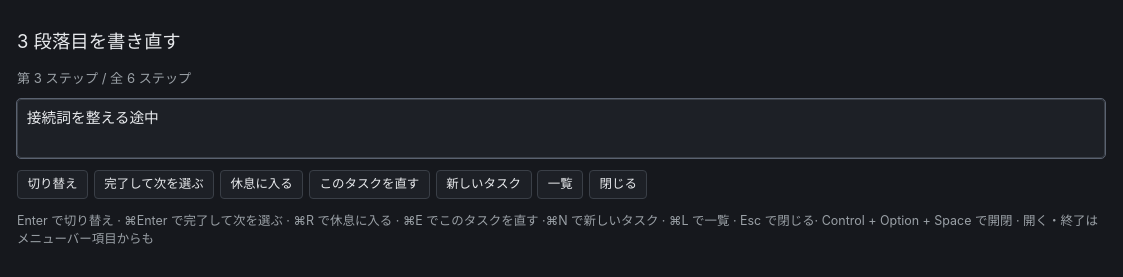
Scenario: 「切り替え」のボタンは Enter と同じ経路を通る
Step 1. Replace the text in the text box with class "note" with "接続詞を整える途中 / 次は結論" → {"x": 561, "y": 129}, box [17,99,1105,158]
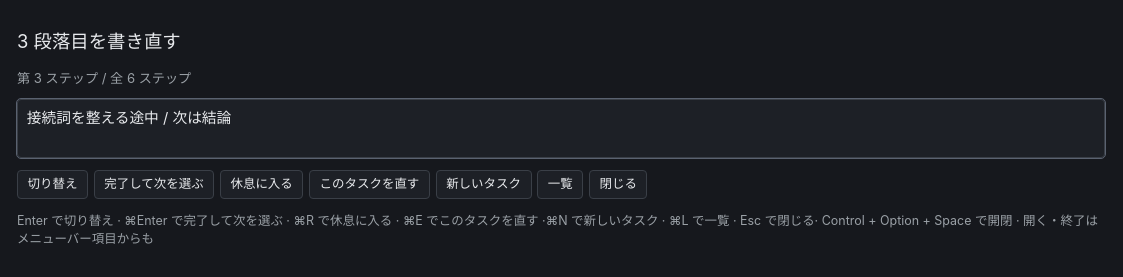
Step 2. Click the button "切り替え" → {"x": 53, "y": 185}, box [17,170,88,199]
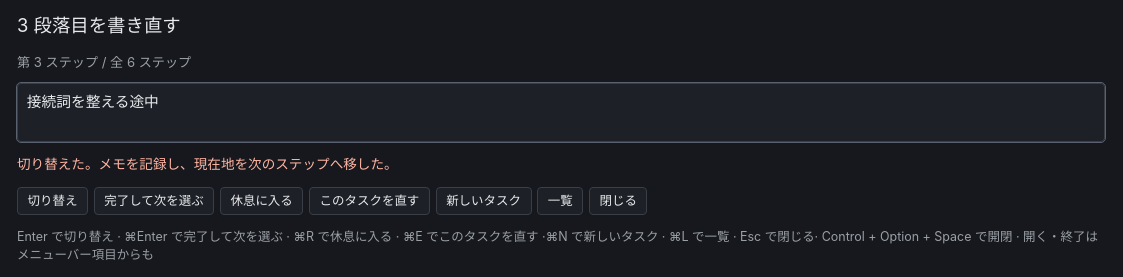
Result: the message "切り替えた。メモを記録し、現在地を次のステップへ移した。" is shown at [17,156,398,172]
